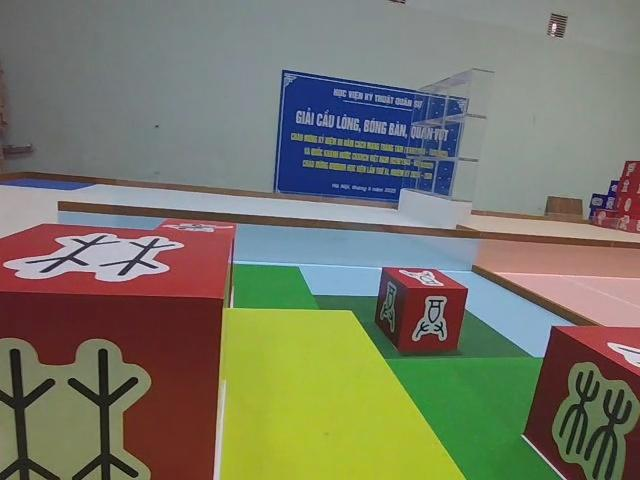R2 Fake: (520, 321, 640, 480)
R2 Real: (0, 221, 235, 480), (372, 264, 470, 355)
